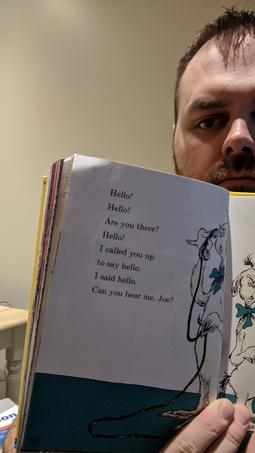text block: (86, 182, 180, 307)
